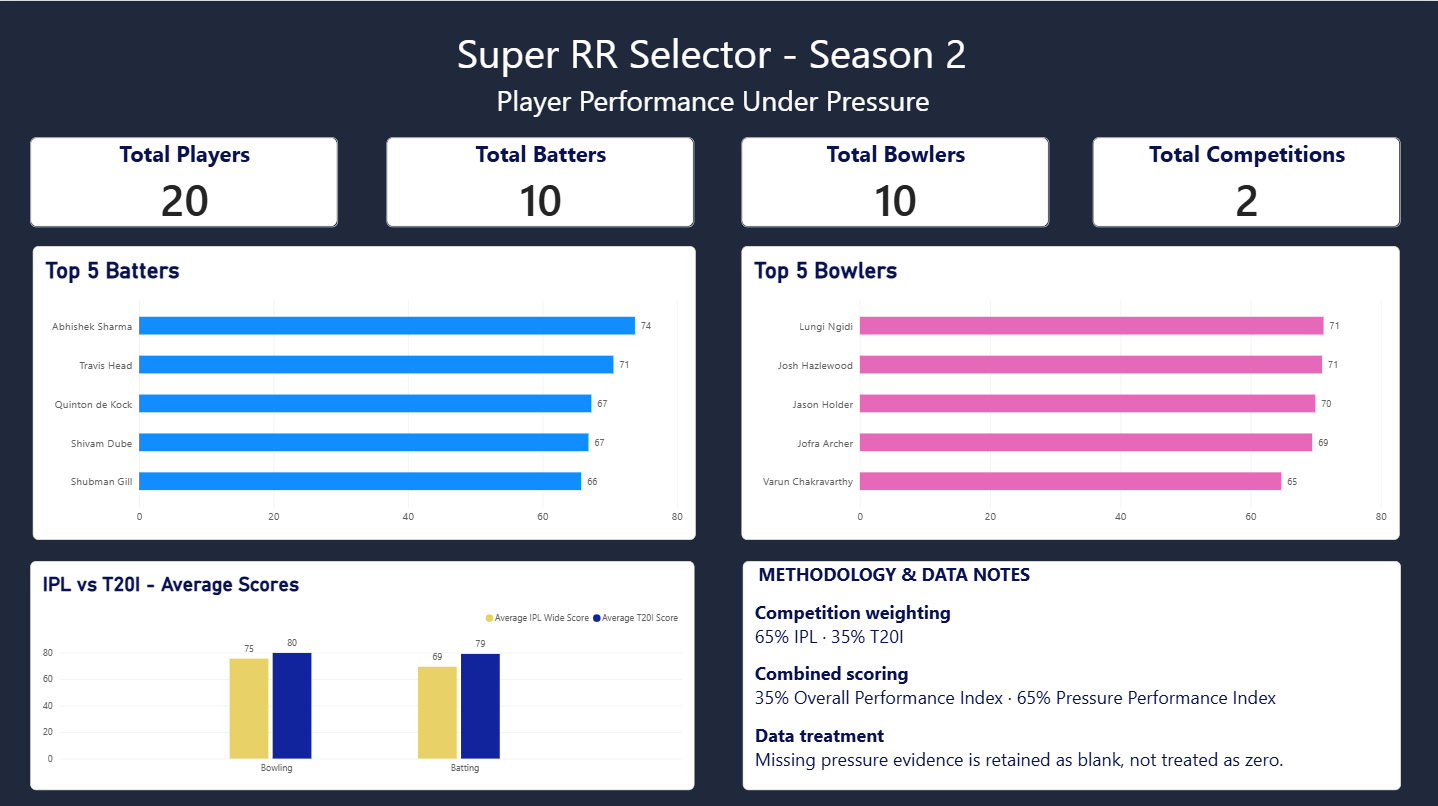

This screenshot's page, from the dashboard's own definition file:
{"tool":"powerbi","page":{"name":"01 - Executive Overview","canvas":[1920,1080],"ordinal":0},"visuals":[{"type":"textbox","box":[0,12.2,1920.4,101.2],"z":0},{"type":"textbox","box":[0,83.7,1920.4,83.7],"z":1000},{"type":"cardVisual","fields":{"Data":["T_BI_Availability_Audit.Total Players"]},"box":[41.9,181.4,410,120],"z":2000},{"type":"cardVisual","fields":{"Data":["T_BI_Availability_Audit.Total Competitions"]},"box":[1458.1,181.4,410,120],"z":3000},{"type":"cardVisual","fields":{"Data":["T_BI_Availability_Audit.Total Bowlers"]},"box":[990.7,181.4,410,120],"z":4000},{"type":"cardVisual","fields":{"Data":["T_BI_Availability_Audit.Total Batters"]},"box":[516.3,181.4,410,120],"z":5000},{"type":"clusteredBarChart","title":"Top 5 Batters","fields":{"Category":["T_BI_Ranking_Context.player_name"],"Y":["Avg(T_BI_Ranking_Context.overall_cross_comp_score)"]},"box":[44.3,325.8,884.2,392.3],"z":6000},{"type":"clusteredBarChart","title":"Top 5 Bowlers","fields":{"Category":["T_BI_Ranking_Context.player_name"],"Y":["Avg(T_BI_Ranking_Context.overall_cross_comp_score)"]},"box":[990.2,325.8,877.9,392.3],"z":7000},{"type":"clusteredColumnChart","title":"IPL vs T20I - Average Scores","fields":{"Category":["T_BI_Ranking_Context.role"],"Y":["Avg(T_BI_Ranking_Context.ipl_wide_score)","Avg(T_BI_Ranking_Context.t20i_score)"]},"box":[41.1,746.6,885.8,305.3],"z":8000},{"type":"textbox","box":[991.7,746.6,877.9,305.3],"z":9000}]}

Visuals, with their boxes in screenshot pixels (x1, y1, x2, y2), scaled from the page's 1920x1080 canvas onto the 1438x806 screenshot:
textbox: 0,9,1437,85
textbox: 0,62,1437,125
cardVisual - T_BI_Availability_Audit.Total Players: 31,135,338,225
cardVisual - T_BI_Availability_Audit.Total Competitions: 1092,135,1399,225
cardVisual - T_BI_Availability_Audit.Total Bowlers: 742,135,1049,225
cardVisual - T_BI_Availability_Audit.Total Batters: 387,135,694,225
"Top 5 Batters" clusteredBarChart: 33,243,695,536
"Top 5 Bowlers" clusteredBarChart: 742,243,1399,536
"IPL vs T20I - Average Scores" clusteredColumnChart: 31,557,694,785
textbox: 743,557,1400,785
